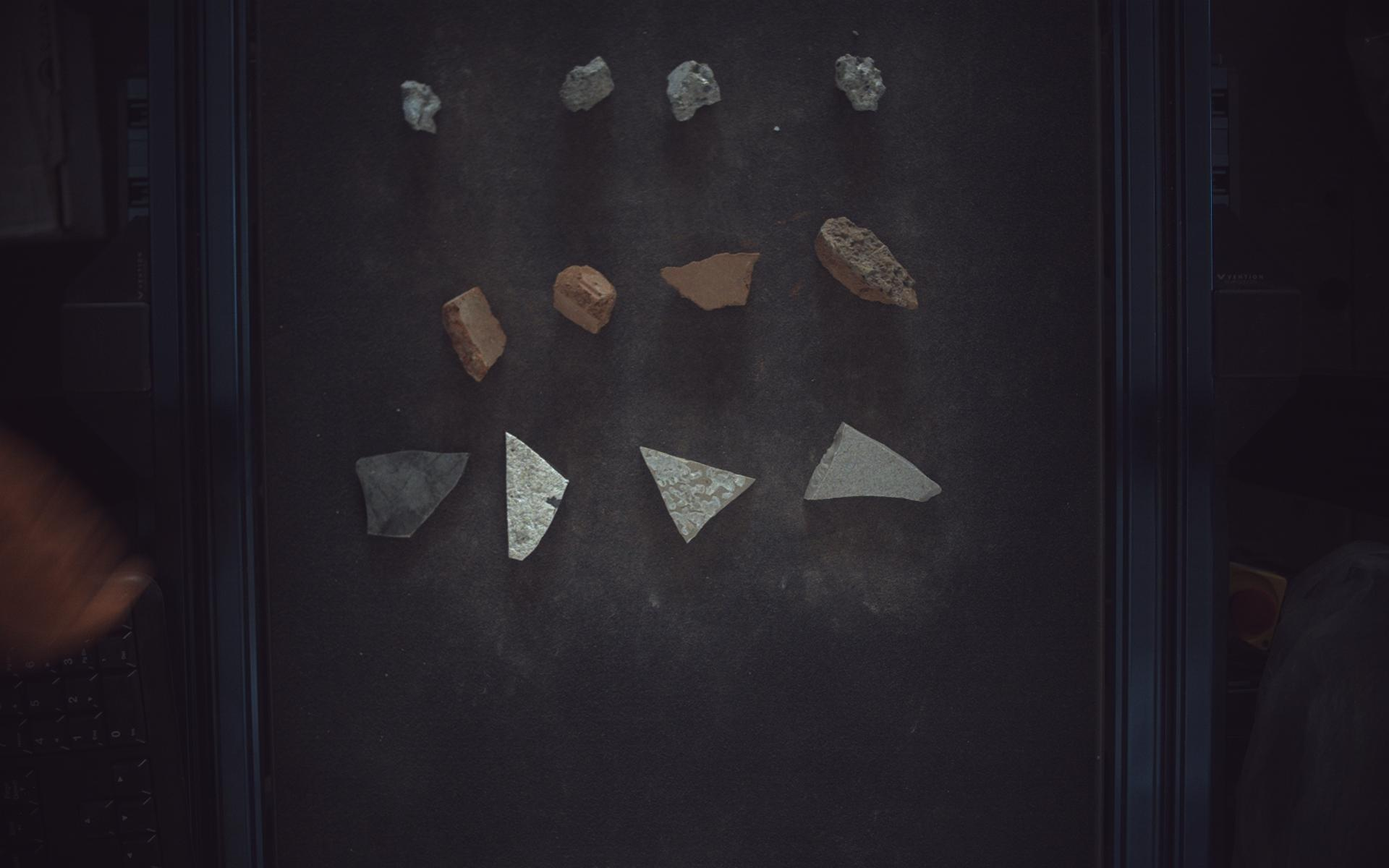brick: (817, 216, 919, 309), (441, 286, 507, 381), (662, 252, 760, 310), (554, 265, 617, 333)
concrete: (668, 59, 722, 120), (560, 55, 614, 111), (837, 53, 887, 110), (402, 80, 441, 132)
tile: (805, 422, 943, 502), (642, 447, 756, 543), (357, 451, 469, 539), (506, 433, 569, 561)
